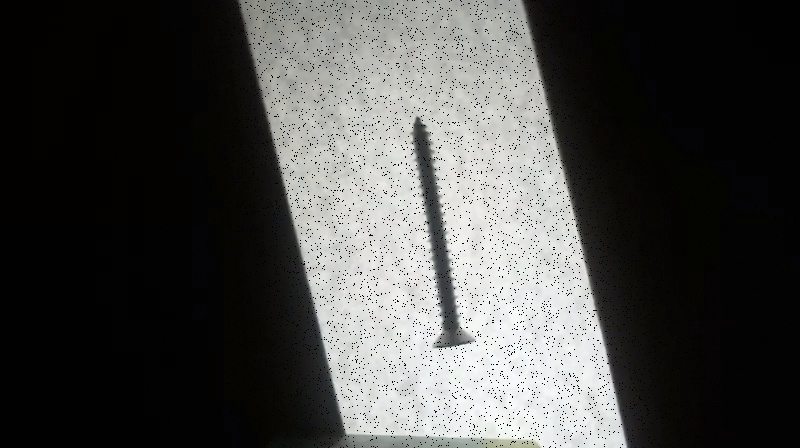S002: (409, 115, 478, 352)
